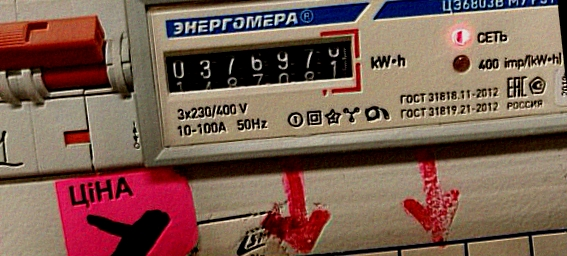0: (169, 56, 186, 80)
1: (328, 58, 341, 79)
3: (198, 57, 214, 80)
6: (248, 48, 265, 72)
7: (222, 51, 240, 77), (300, 45, 317, 70)
9: (274, 47, 290, 70)
screen: (153, 17, 369, 115)
